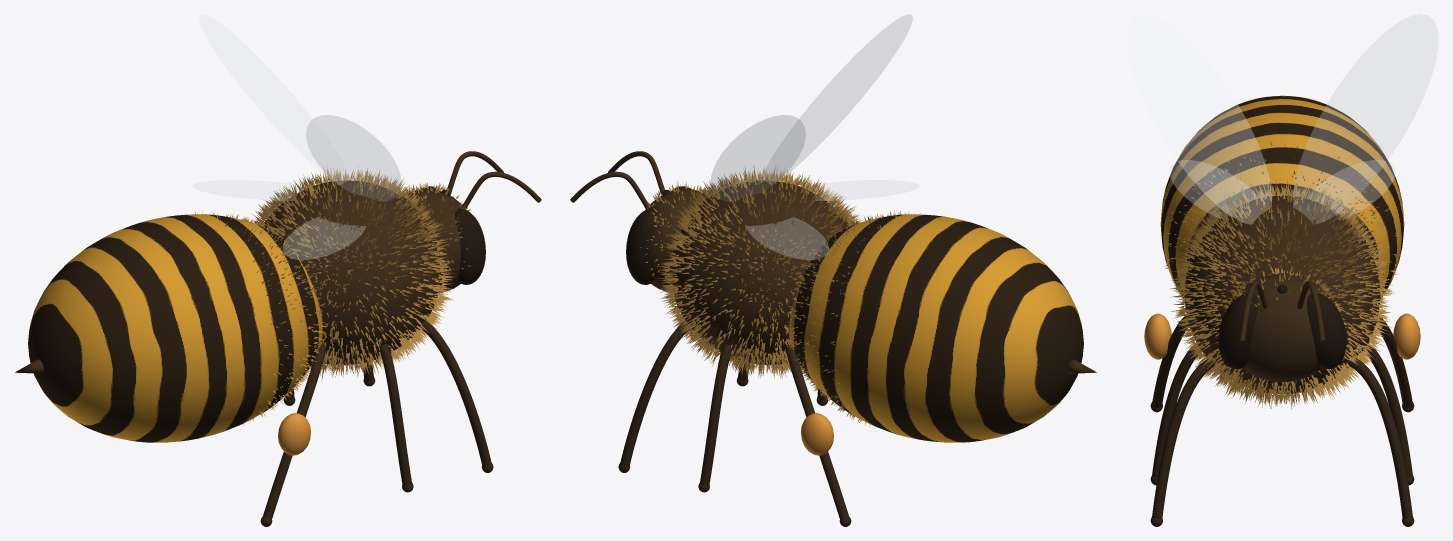
File: bee-hero.glb
3 views of the same model, side by side, from view 1: azimuth 30°, elevation 25°; view 2: azimuth 150°, elevation 25°; view 3: azimuth 270°, elevation 25° (orthographic). The views are drawn at different scales.
Parts seen in each view (by area): view 1: abdomen, thorax, fuzz_thorax, foreWingL, foreWingR, head, hindWingR, compoundEyeR, hindWingL, foreLegR, fuzz_abdomen, midLegR (+3 smaller); view 2: abdomen, thorax, fuzz_thorax, foreWingR, foreWingL, head, hindWingL, compoundEyeL, hindWingR, foreLegL, fuzz_abdomen, midLegL (+3 smaller); view 3: abdomen, fuzz_thorax, thorax, foreWingL, foreWingR, head, hindWingL, hindWingR, compoundEyeL, compoundEyeR, foreLegL, foreLegR (+10 smaller).
Boxes of the visible parts, <box> form: abdomen: <box>28,214,322,442</box>; thorax: <box>263,180,441,365</box>; fuzz_thorax: <box>249,166,456,381</box>; foreWingL: <box>199,14,349,184</box>; foreWingR: <box>306,115,401,201</box>; head: <box>402,189,464,292</box>; hindWingR: <box>283,217,365,259</box>; compoundEyeR: <box>455,208,485,284</box>; hindWingL: <box>192,180,307,200</box>; foreLegR: <box>420,320,491,466</box>; fuzz_abdomen: <box>195,211,327,425</box>; midLegR: <box>379,344,411,485</box>; abdomen: <box>789,214,1083,442</box>; thorax: <box>670,180,847,365</box>; fuzz_thorax: <box>658,165,862,380</box>; foreWingR: <box>763,14,912,183</box>; foreWingL: <box>710,115,805,201</box>; head: <box>645,189,707,291</box>; hindWingL: <box>747,217,828,259</box>; compoundEyeL: <box>626,208,656,284</box>; hindWingR: <box>801,180,919,200</box>; foreLegL: <box>620,320,691,466</box>; fuzz_abdomen: <box>786,211,920,426</box>; midLegL: <box>700,344,732,485</box>; abdomen: <box>1160,95,1404,300</box>; fuzz_thorax: <box>1170,177,1394,409</box>; thorax: <box>1184,195,1380,393</box>; foreWingL: <box>1293,14,1438,223</box>; foreWingR: <box>1126,14,1271,224</box>; head: <box>1228,274,1337,382</box>; hindWingL: <box>1306,160,1395,219</box>; hindWingR: <box>1169,160,1257,219</box>; compoundEyeL: <box>1307,293,1346,368</box>; compoundEyeR: <box>1218,293,1257,368</box>; foreLegL: <box>1346,357,1412,518</box>; foreLegR: <box>1152,358,1217,518</box>.
Size of the model in its own units: 1.49 by 1.13 by 0.7459.
Materials: 7 (1 with a texture image).
